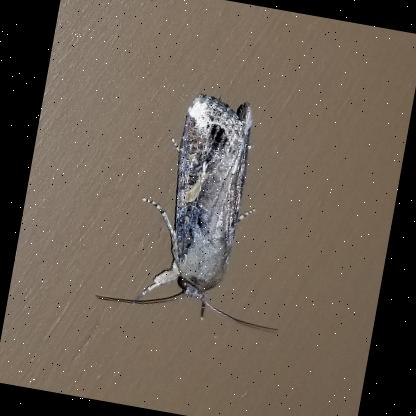Fall Armyworm Moth: (90, 76, 322, 338)
